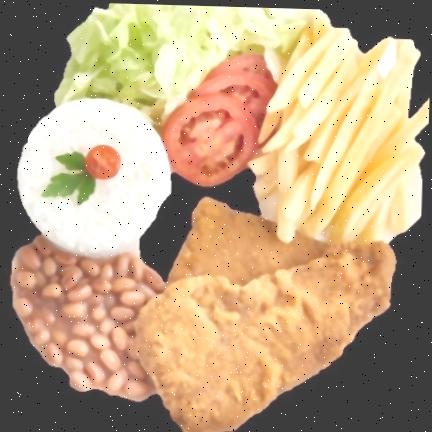beans: (13, 235, 164, 401)
chicken: (135, 200, 395, 432)
potato: (249, 13, 429, 241)
rice: (18, 99, 170, 257)
salad: (56, 3, 309, 126)
tomato: (161, 54, 276, 185), (85, 145, 120, 179)
